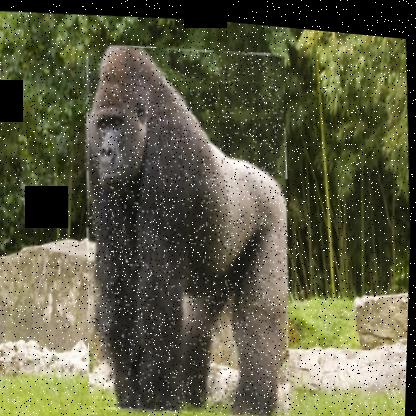Gorilla gorilla: (73, 32, 303, 415)
